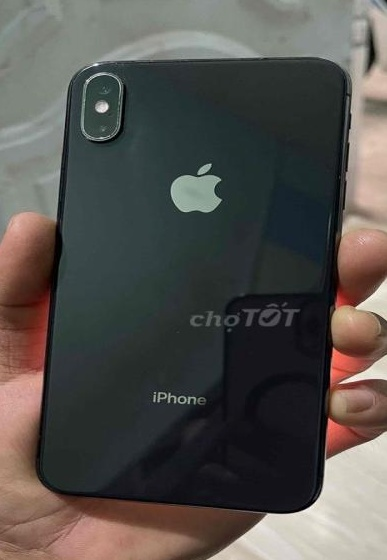scratch: (79, 62, 155, 100), (94, 123, 108, 148), (103, 103, 129, 116), (113, 118, 125, 131)
